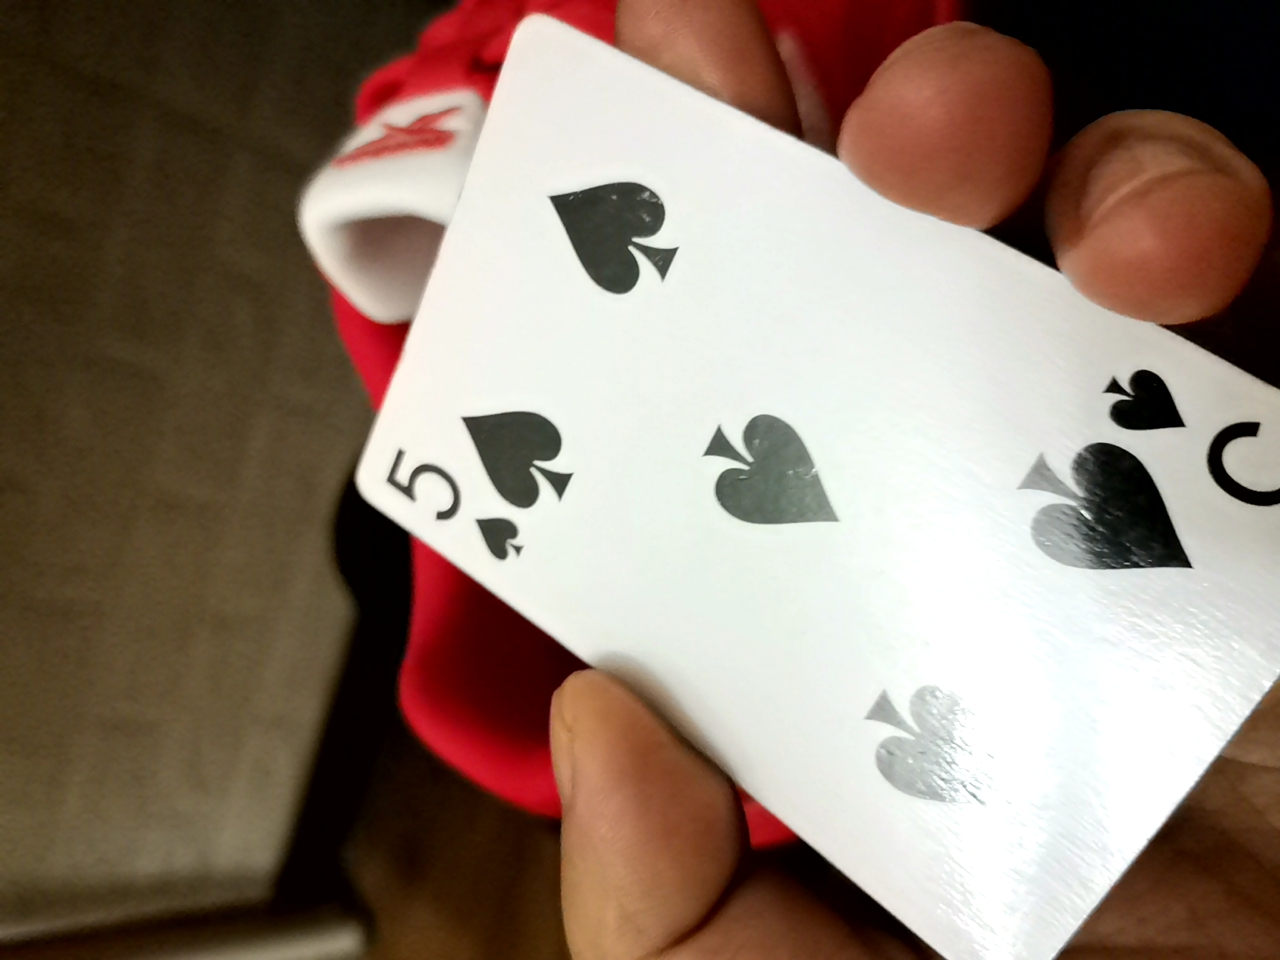ht 5: (321, 49, 1267, 952)
